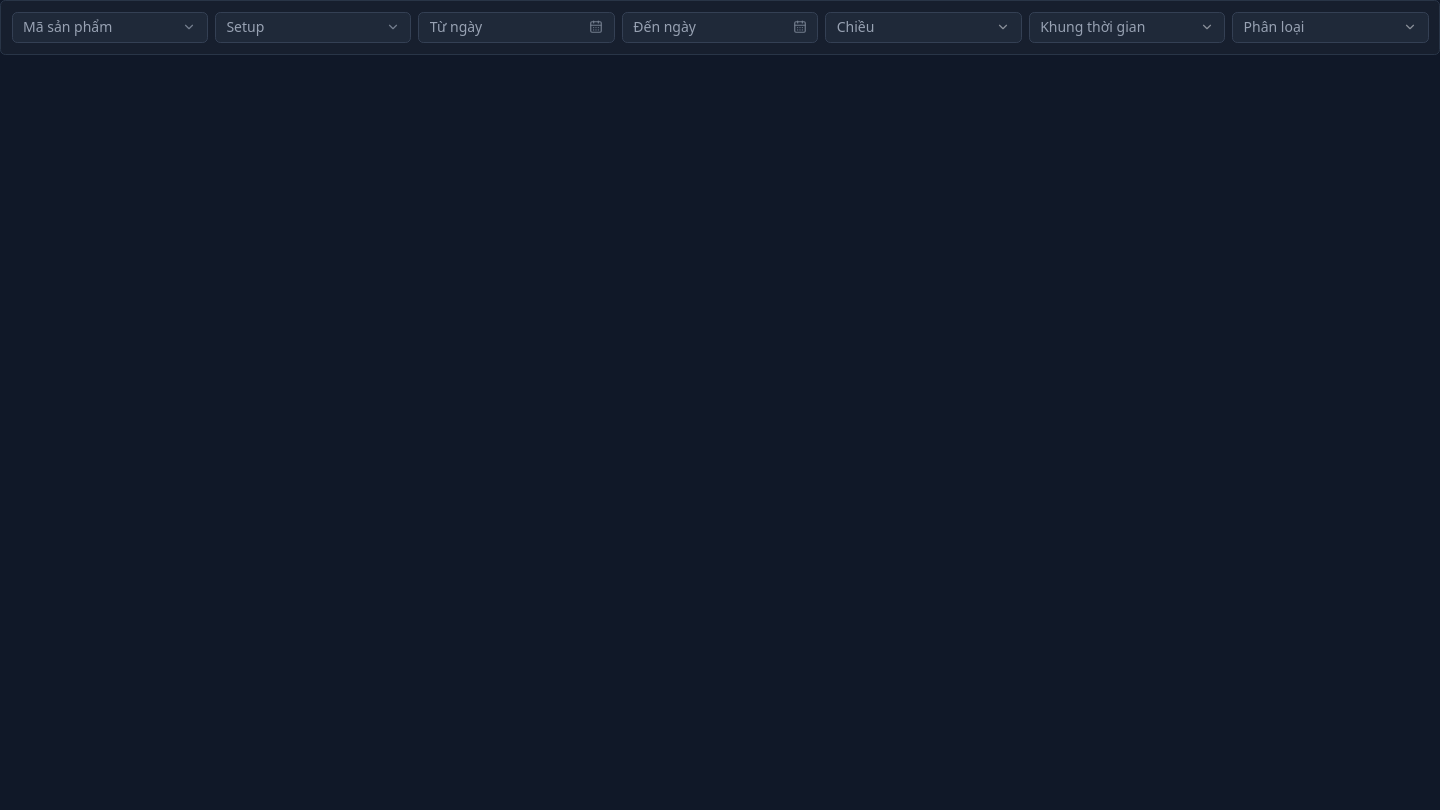
gọi /facets hỏng thì nói là hỏng, không nói là không tìm thấy
What coordinates should you click on to do the following:
click the dropdown labelled "Mã sản phẩm"
I would click on:
 (110, 27)
Its box is 12,12 -> 208,43.
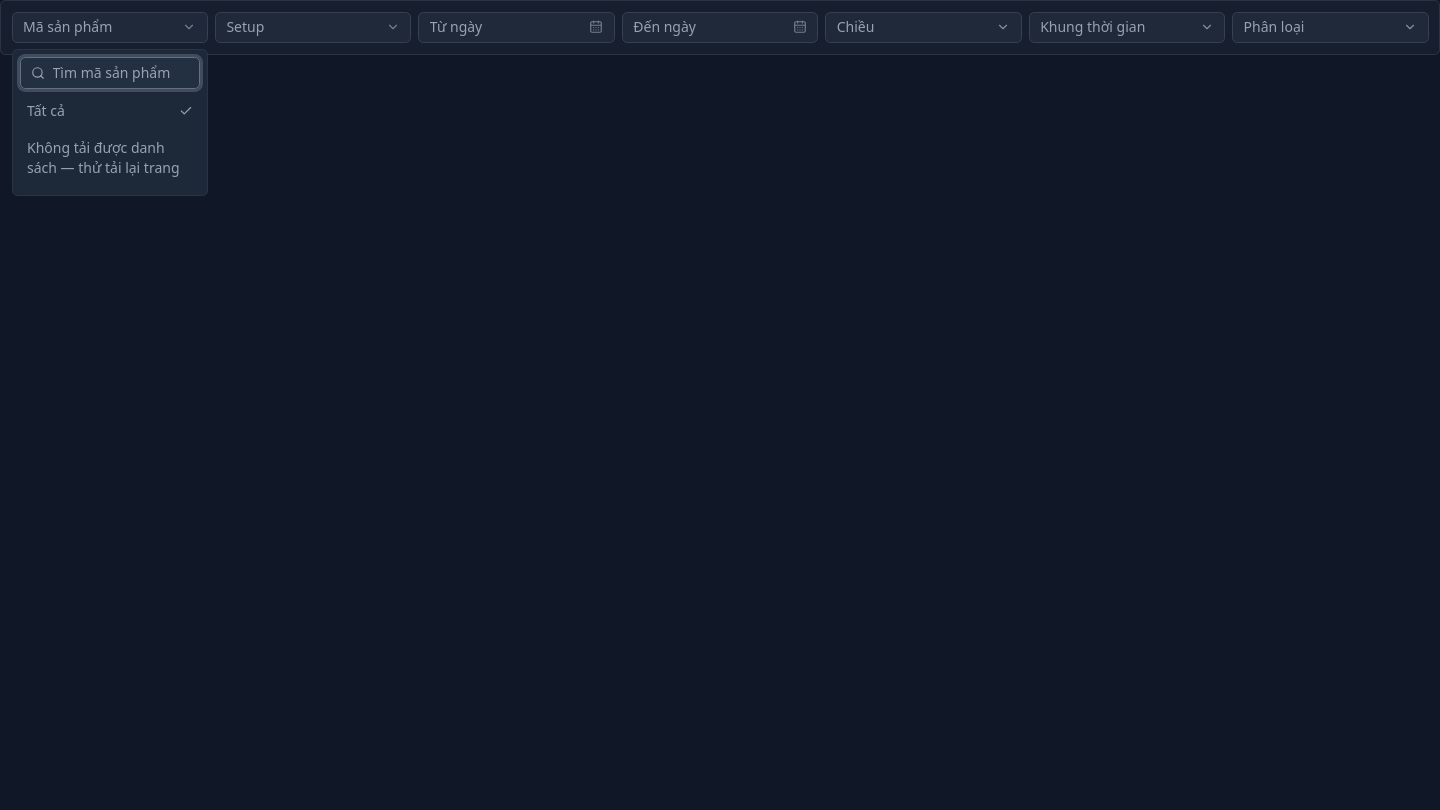
Check: the text "Không tải được danh sách — thử tải lại trang" is shown, box 27,138 -> 180,176
